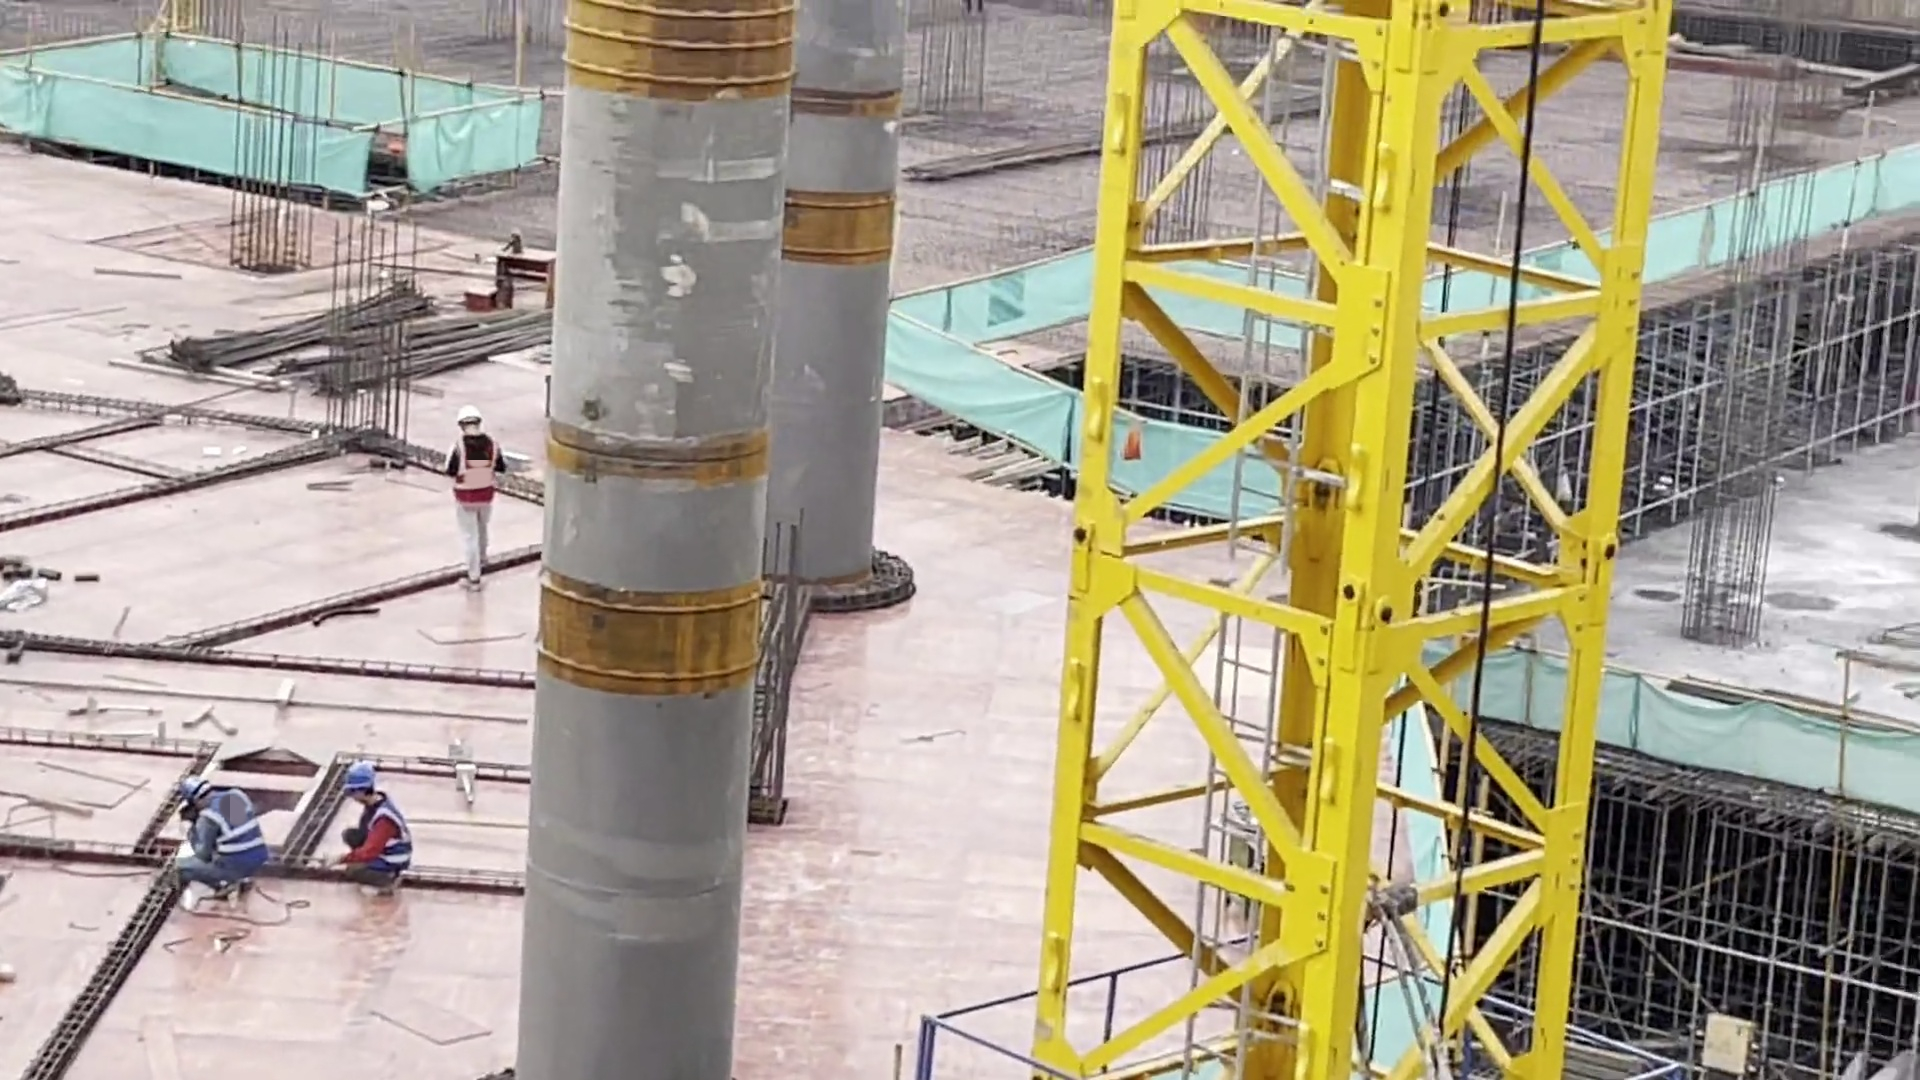helmet: (342, 760, 375, 795), (179, 775, 208, 801), (455, 404, 483, 426)
person: (177, 781, 271, 912), (328, 757, 413, 899), (444, 401, 506, 592)
vest: (200, 789, 270, 877), (356, 797, 415, 875), (450, 430, 502, 509)
